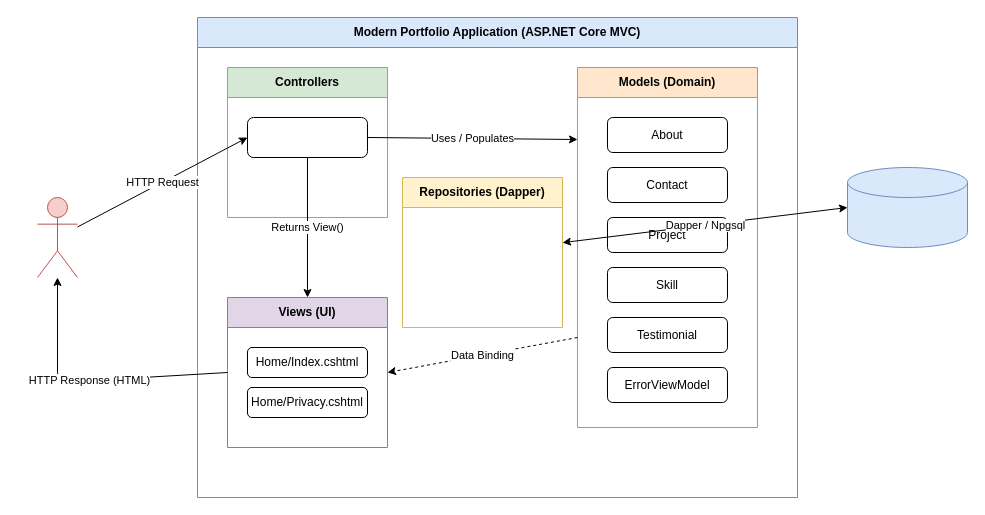
Image size: 985x515. Some labels were removed from this diagram. The shapes that lost their labels are listed below. From the top down, each one's centre as x and y in pixels, then its label:
(x=307, y=137): HomeController
(x=907, y=207): PostgreSQL DB (Docker Container)
(x=57, y=237): User (Browser)
